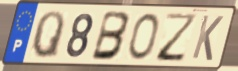8: (66, 12, 95, 59)
B: (89, 9, 132, 62)
K: (190, 14, 225, 63)
O: (126, 12, 160, 62)
Q: (29, 10, 66, 61)
Z: (155, 12, 199, 64)
